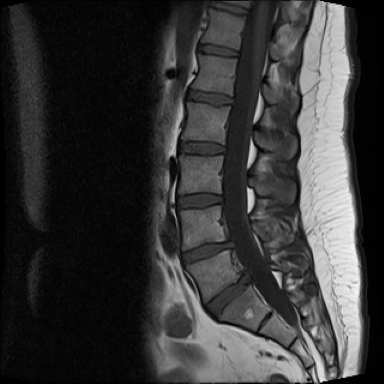Lumbar Disc Bulge (LDB): (198, 268, 256, 324), (174, 231, 237, 272)
Normal IVD: (172, 186, 224, 213), (175, 134, 228, 159), (182, 86, 235, 110), (191, 42, 242, 62), (206, 3, 251, 18)
Spinal Stenosis (SS): (234, 266, 257, 292), (222, 231, 238, 254)
